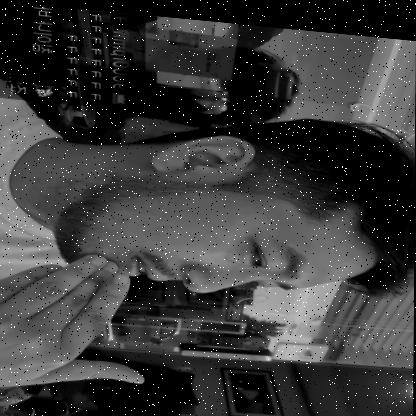streamer: (0, 70, 416, 416)
